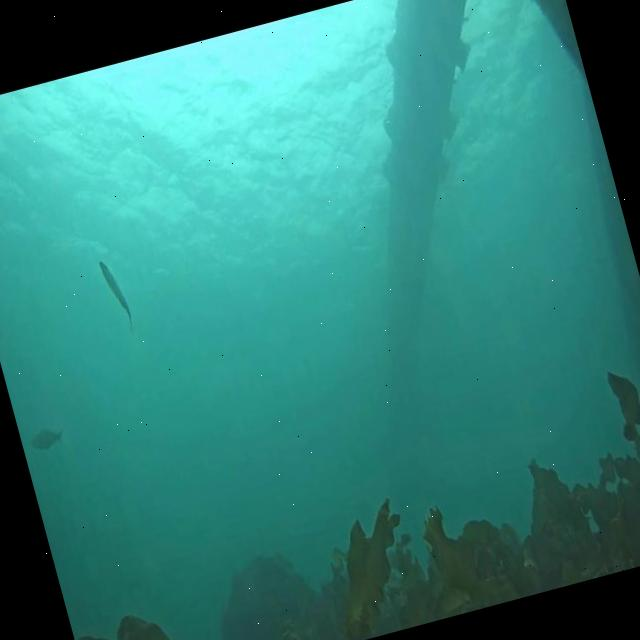fish: (98, 256, 134, 332), (27, 423, 64, 455)
